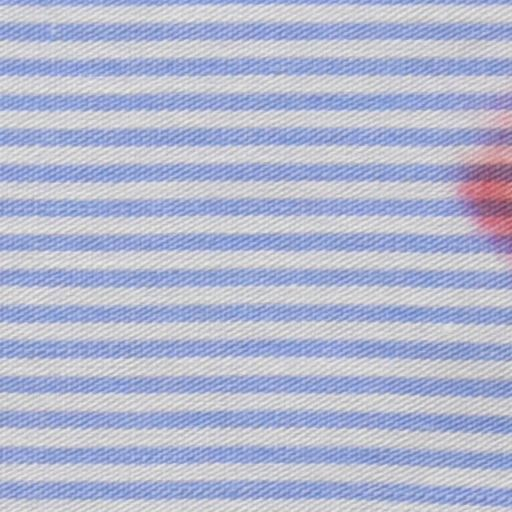defect: (459, 98, 512, 261)
